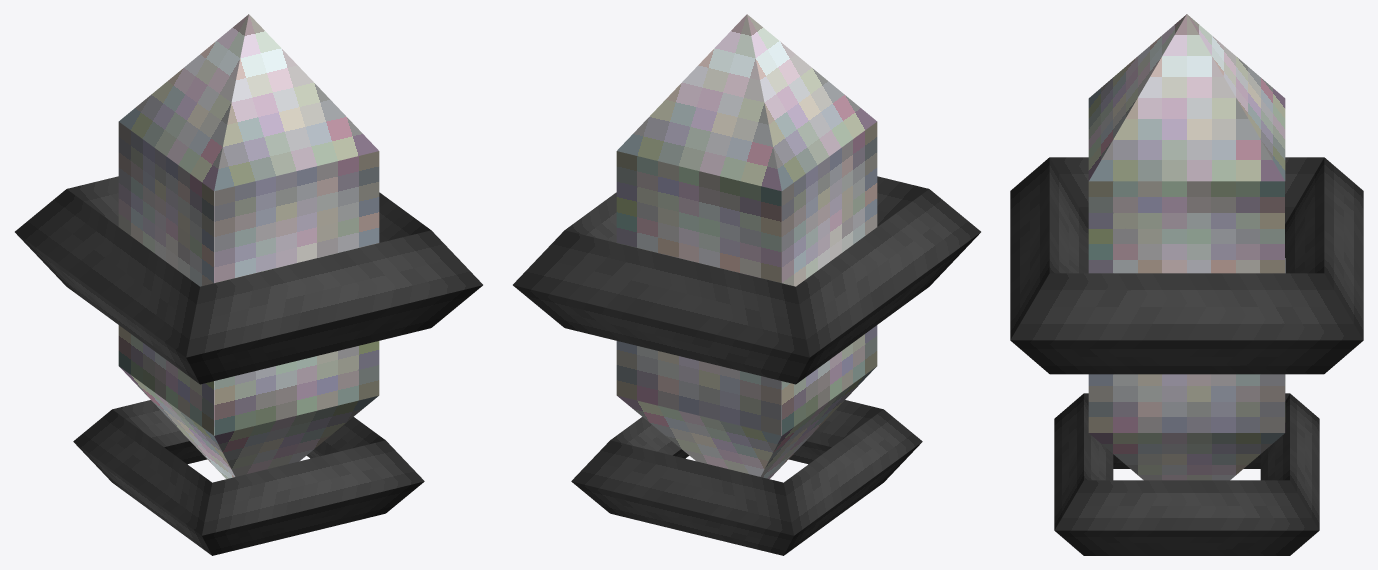
File: vis_relay.obj
3 views of the same model, side by side, from view 1: azimuth 30°, elevation 25°; view 2: azimuth 150°, elevation 25°; view 3: azimuth 270°, elevation 25° (orthographic). The views are drawn at different scales.
Parts seen in each view (by area): view 1: part2, part1, part0; view 2: part2, part1, part0; view 3: part2, part1, part0.
Part boxes in pixels (left/top/right/bottom): part2: left=118, top=14, right=379, bottom=478; part1: left=15, top=176, right=482, bottom=384; part0: left=73, top=400, right=424, bottom=555; part2: left=616, top=14, right=877, bottom=478; part1: left=513, top=176, right=980, bottom=384; part0: left=571, top=400, right=922, bottom=555; part2: left=1088, top=14, right=1285, bottom=480; part1: left=1010, top=157, right=1363, bottom=374; part0: left=1054, top=393, right=1319, bottom=555.
Bounding box in the file's own units: 0.3182 × 0.5 × 0.3182.
